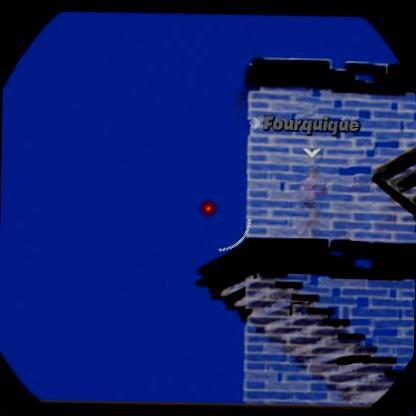person: (296, 170, 327, 240)
